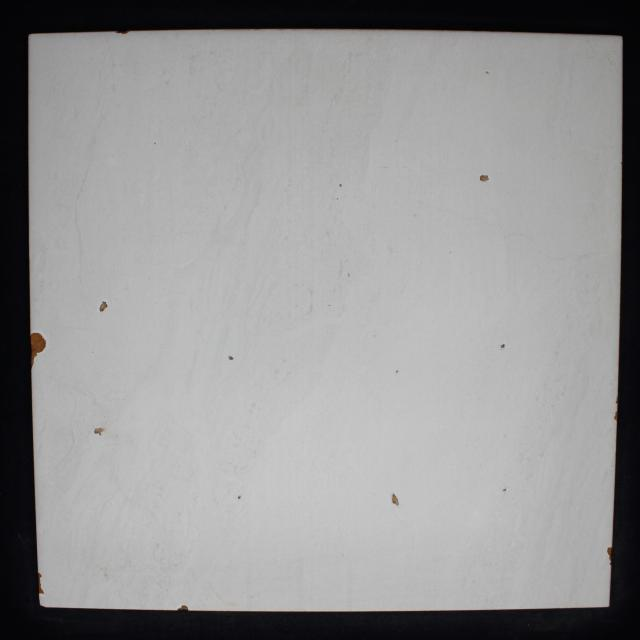edge-chipping: (30, 332, 47, 353), (31, 354, 38, 370), (113, 30, 130, 35), (176, 605, 188, 611), (38, 572, 42, 586), (607, 546, 612, 556), (39, 586, 44, 594), (614, 411, 618, 421), (608, 556, 612, 562), (615, 396, 618, 404), (610, 562, 612, 565)
hole: (93, 427, 105, 436), (99, 300, 108, 312), (392, 493, 399, 506), (480, 175, 490, 182), (228, 356, 234, 360), (501, 344, 505, 349), (502, 488, 507, 492), (238, 496, 242, 500), (339, 183, 342, 187)
